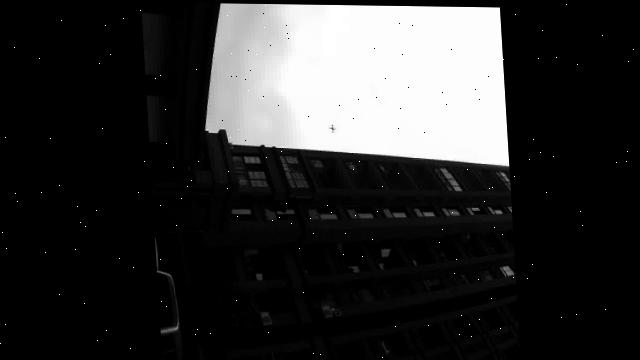drone: (327, 123, 335, 133)
